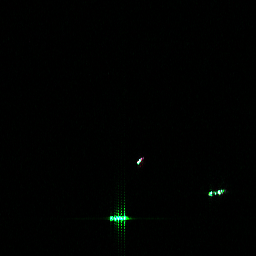ship: (206, 187, 225, 198), (134, 153, 147, 167), (108, 214, 130, 222)
